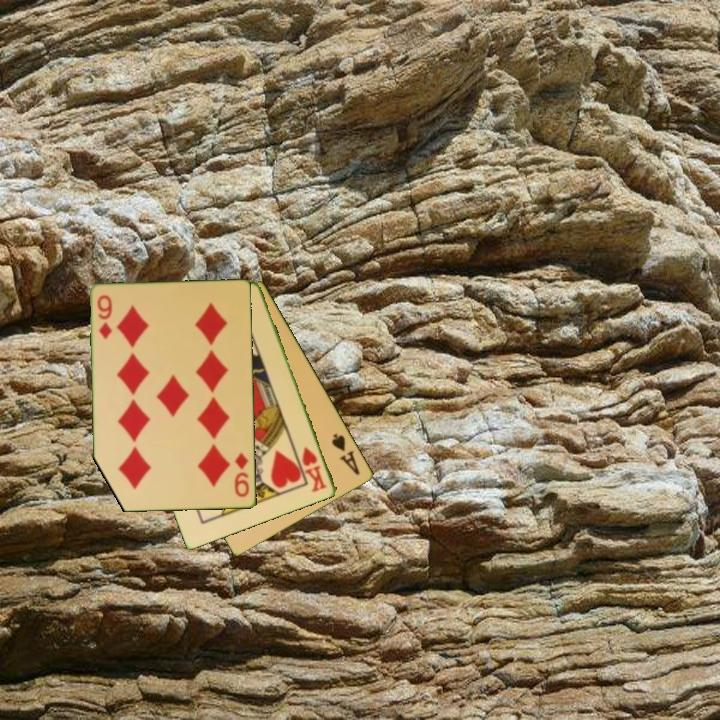9d: (231, 450, 253, 500), (94, 292, 115, 342)
As: (328, 430, 363, 478)
Kh: (299, 444, 330, 495)
